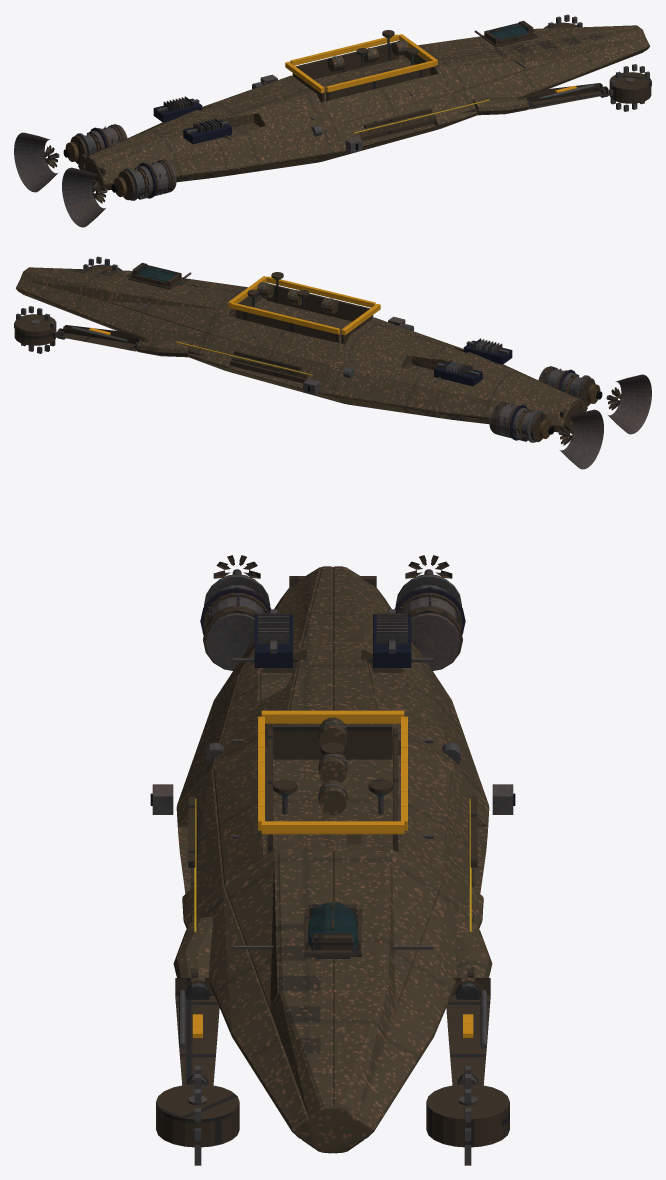
File: salvage_cutter_production_v1_lod0.glb
3 views of the same model, one above another, from view 1: azimuth 30°, elevation 25°; view 2: azimuth 150°, elevation 25°; view 3: azimuth 270°, elevation 25° (orthographic). The views are drawn at different scales.
Visible parts, largest first — view 1: LOD0_Hull, LOD0_Armor, LOD0_Mechanical, LOD0_Warning, LOD0_Radiator, LOD0_Ceramic, LOD0_Canopy; view 2: LOD0_Hull, LOD0_Armor, LOD0_Mechanical, LOD0_Warning, LOD0_Radiator, LOD0_Ceramic, LOD0_Canopy; view 3: LOD0_Hull, LOD0_Armor, LOD0_Mechanical, LOD0_Warning, LOD0_Radiator, LOD0_Canopy.
Part boxes in pixels (bbox=[...]): LOD0_Hull: bbox=[78, 25, 649, 190]; LOD0_Armor: bbox=[44, 20, 651, 203]; LOD0_Mechanical: bbox=[14, 14, 651, 227]; LOD0_Warning: bbox=[285, 34, 577, 93]; LOD0_Radiator: bbox=[90, 98, 231, 198]; LOD0_Ceramic: bbox=[65, 134, 147, 196]; LOD0_Canopy: bbox=[359, 24, 529, 56]; LOD0_Hull: bbox=[16, 267, 587, 432]; LOD0_Armor: bbox=[14, 262, 621, 445]; LOD0_Mechanical: bbox=[14, 256, 651, 469]; LOD0_Warning: bbox=[88, 276, 380, 335]; LOD0_Radiator: bbox=[434, 340, 575, 440]; LOD0_Ceramic: bbox=[518, 376, 600, 438]; LOD0_Canopy: bbox=[136, 266, 306, 298]; LOD0_Hull: bbox=[173, 566, 492, 1153]; LOD0_Armor: bbox=[156, 555, 509, 1147]; LOD0_Mechanical: bbox=[152, 569, 513, 1165]; LOD0_Warning: bbox=[192, 710, 473, 1038]; LOD0_Radiator: bbox=[200, 587, 465, 667]; LOD0_Canopy: bbox=[278, 793, 387, 951].
Size of what is drawn, in the model's own units: 15.55 by 2.33 by 4.18.
9 materials, 9 textured.
